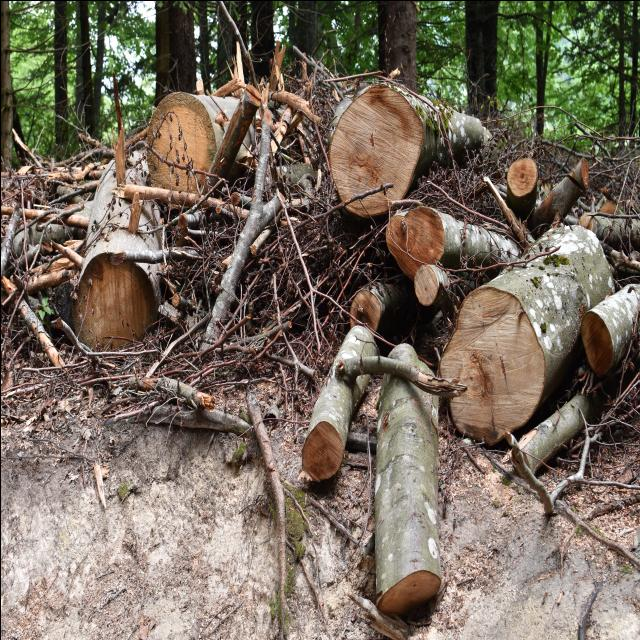restos de madeira: (429, 272, 585, 448), (190, 92, 286, 370), (360, 374, 444, 639), (69, 143, 162, 364), (136, 92, 246, 200), (244, 388, 289, 630), (507, 387, 597, 477), (357, 88, 425, 206), (210, 248, 284, 346), (532, 225, 612, 309), (302, 368, 359, 481), (502, 432, 564, 518), (582, 284, 640, 368), (215, 0, 263, 99), (548, 422, 602, 508), (529, 156, 587, 234), (0, 250, 84, 302), (479, 175, 532, 248), (518, 134, 618, 172), (351, 280, 408, 342), (144, 302, 210, 352), (222, 185, 308, 217), (292, 45, 344, 97), (9, 201, 84, 237), (441, 109, 489, 165), (414, 263, 458, 323), (16, 300, 60, 358), (431, 210, 471, 268), (389, 216, 423, 278), (592, 212, 638, 250), (9, 126, 47, 170), (264, 350, 316, 379), (582, 496, 640, 522), (120, 182, 184, 204), (55, 143, 108, 169), (568, 474, 640, 492), (101, 246, 171, 264), (205, 404, 249, 432), (276, 160, 314, 192), (43, 182, 94, 203), (144, 142, 182, 169), (50, 240, 84, 270), (166, 378, 202, 406), (606, 249, 640, 277), (164, 290, 198, 316), (76, 132, 114, 153), (618, 278, 640, 314), (222, 434, 246, 464), (111, 72, 123, 132), (125, 372, 159, 392), (128, 192, 144, 234), (58, 211, 90, 229), (483, 181, 507, 200), (576, 196, 598, 213), (597, 200, 617, 214), (564, 213, 580, 225), (600, 186, 612, 198)
terra: (379, 1, 418, 95), (248, 1, 276, 83)
